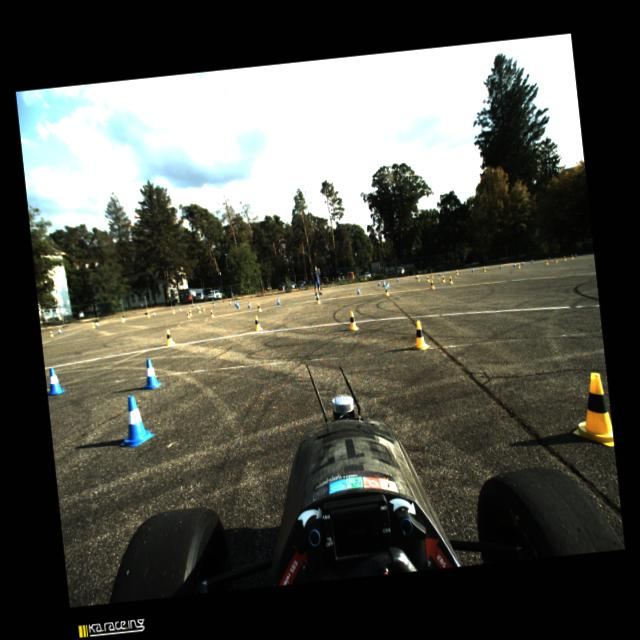blue_cone: (114, 393, 156, 448), (139, 357, 163, 390), (44, 366, 67, 396), (356, 286, 360, 294), (316, 290, 320, 298), (247, 301, 251, 308), (276, 297, 280, 304), (382, 279, 386, 286), (386, 282, 390, 288), (386, 282, 389, 290), (236, 303, 240, 308), (377, 280, 380, 286), (58, 328, 61, 334), (512, 262, 516, 266), (498, 264, 502, 268), (228, 301, 232, 305), (520, 260, 523, 265), (95, 321, 98, 326), (235, 302, 238, 306), (530, 258, 533, 262), (396, 276, 398, 281), (471, 267, 473, 272), (123, 316, 125, 321), (574, 252, 576, 256), (548, 256, 550, 260), (414, 274, 416, 278), (438, 272, 440, 276), (213, 302, 215, 306), (153, 312, 155, 316), (178, 307, 180, 311), (196, 304, 198, 308)
yellow_cone: (566, 370, 614, 450), (411, 320, 428, 350), (346, 310, 358, 330), (164, 329, 175, 345), (252, 314, 262, 330), (256, 303, 262, 311), (384, 286, 389, 295), (448, 276, 453, 284), (441, 274, 446, 282), (430, 280, 434, 288), (186, 310, 190, 318), (316, 295, 320, 303), (48, 331, 54, 336), (429, 272, 434, 277), (544, 258, 548, 264), (516, 262, 520, 268), (482, 266, 486, 272), (426, 275, 430, 281), (188, 310, 192, 316), (210, 309, 213, 317), (146, 312, 150, 318), (562, 255, 566, 260), (91, 323, 95, 328), (121, 316, 124, 322), (570, 254, 573, 259), (554, 257, 557, 262), (416, 276, 419, 281), (455, 270, 458, 274), (198, 308, 201, 312), (172, 308, 174, 314), (188, 306, 190, 311), (202, 306, 204, 310)
